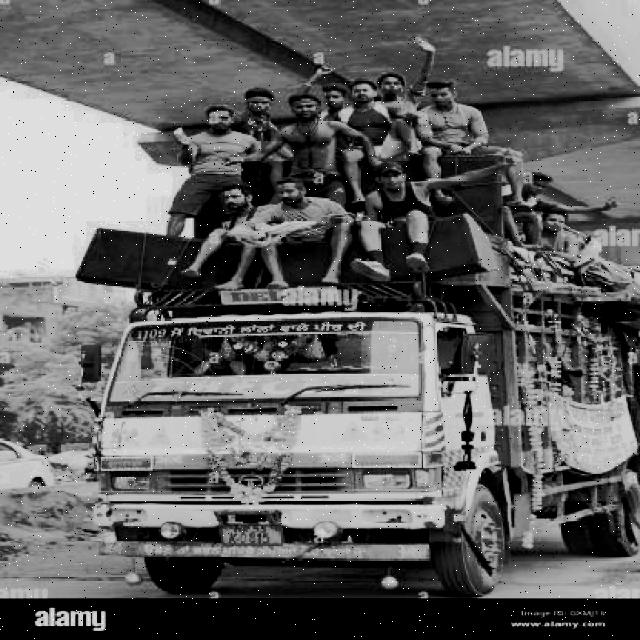HCV: (63, 274, 640, 550)
